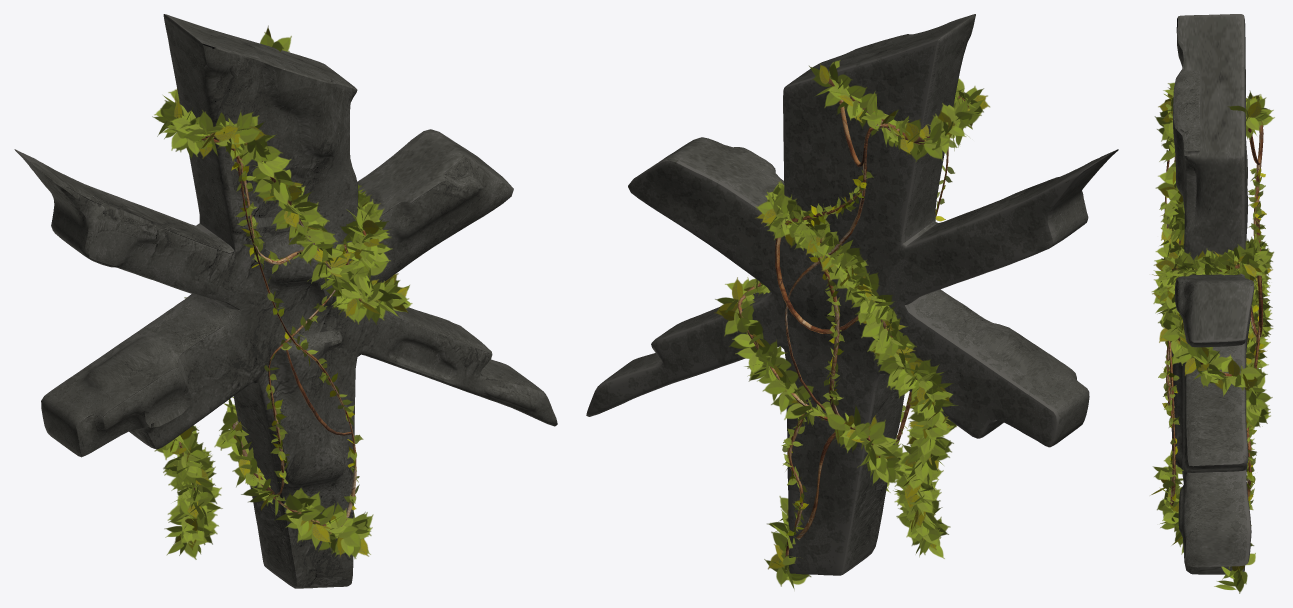
The model's file is star-draco.glb.
3 renders of one model, left to right at view 1: azimuth 30°, elevation 25°; view 2: azimuth 150°, elevation 25°; view 3: azimuth 270°, elevation 25°, orthographic. The views are drawn at different scales.
Parts seen in each view (by area): view 1: Rock, FLMain02, FLMain01, FLsec, Main02; view 2: Rock, FLMain02, FLMain01, Main02, FLsec; view 3: Rock, FLMain02, FLMain01, FLsec, Main02.
Part boxes in pixels (left/top/right/bottom): Rock: left=14, top=14, right=557, bottom=588; FLMain02: left=152, top=25, right=412, bottom=558; FLMain01: left=154, top=184, right=392, bottom=559; FLsec: left=193, top=132, right=363, bottom=539; Main02: left=179, top=133, right=366, bottom=534; Rock: left=586, top=14, right=1118, bottom=575; FLMain02: left=714, top=60, right=989, bottom=590; FLMain01: left=755, top=180, right=958, bottom=558; Main02: left=738, top=78, right=968, bottom=557; FLsec: left=781, top=107, right=969, bottom=547; Rock: left=1171, top=14, right=1254, bottom=574; FLMain02: left=1150, top=82, right=1274, bottom=593; FLMain01: left=1152, top=236, right=1273, bottom=471; FLsec: left=1158, top=139, right=1269, bottom=525; Main02: left=1164, top=118, right=1263, bottom=505.
Size of the model in its own units: 3.67 by 4.15 by 0.9591.
4 materials, 4 textured.
